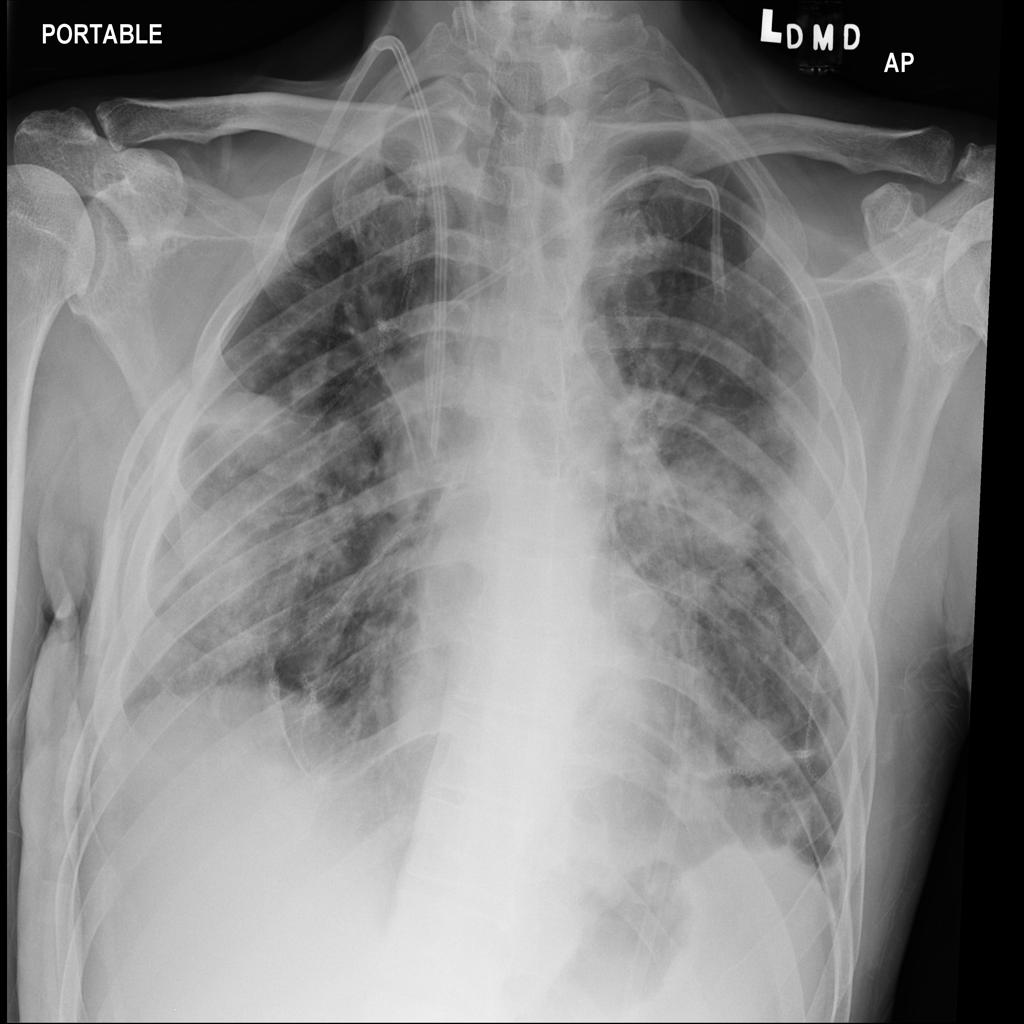nodule: (644, 452, 770, 582), (656, 739, 730, 831), (726, 703, 805, 787)
